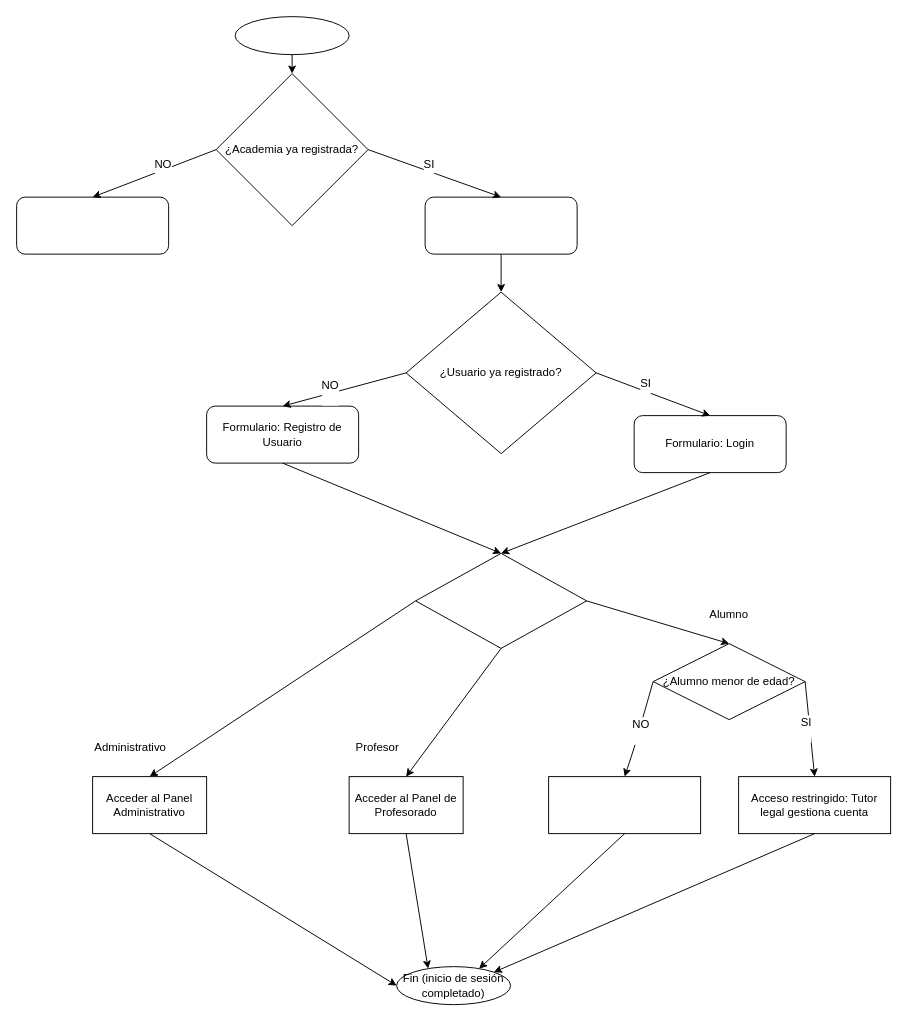
Some shapes in this 907 by 1021 pixel diagram are drawn without their labels. Here are the shapes that lost their labels. From the top down, the box of each, then its label:
(234, 16, 349, 55): Inicio
(16, 196, 169, 254): Formulario: Registrar Academia
(424, 196, 577, 254): Login / Registro de Usuario
(415, 552, 587, 648): ¿Qué rol tiene el usuario?
(548, 776, 701, 834): Acceder al Panel de Alumno
